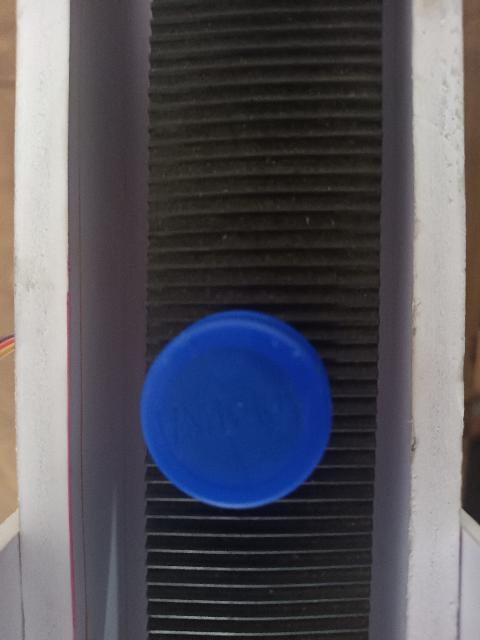bottlecap: (136, 311, 336, 514)
